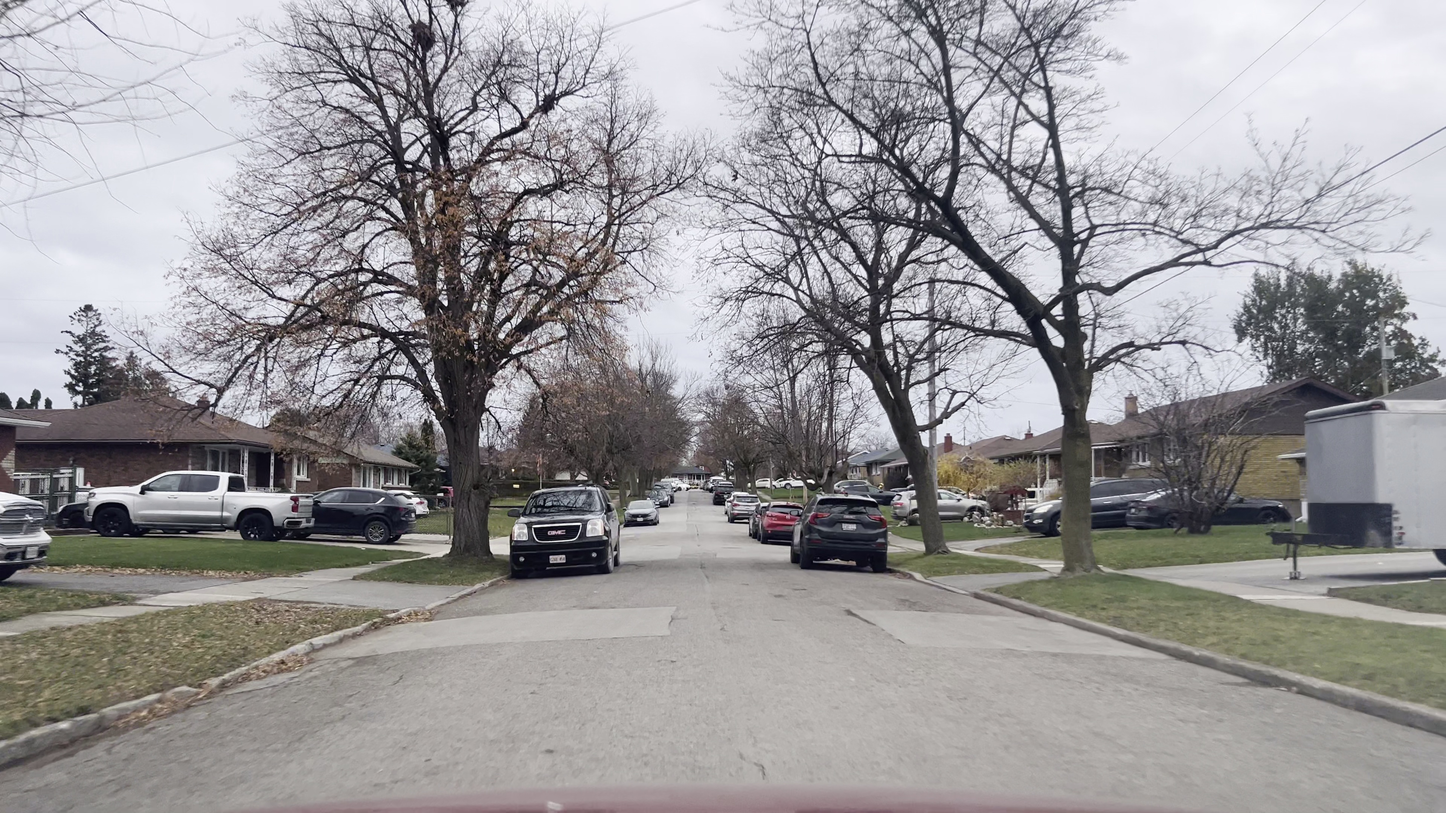cracks: (832, 602, 887, 637)
